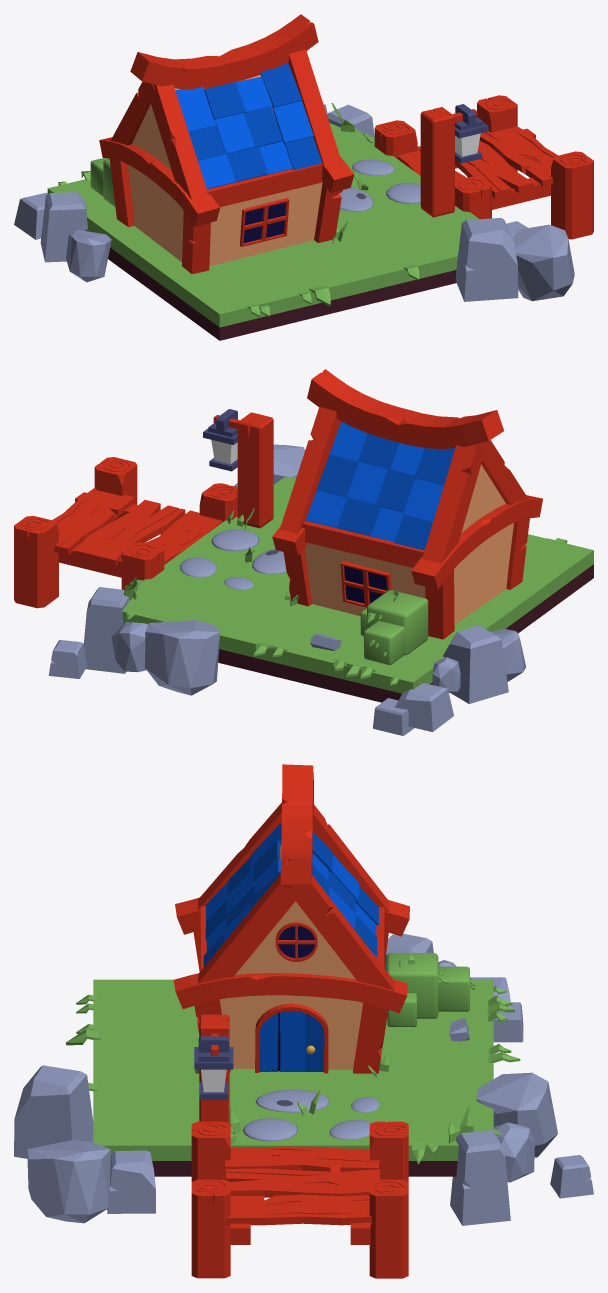
The model's file is hut.glb.
3 renders of one model, top to bottom at view 1: azimuth 30°, elevation 25°; view 2: azimuth 150°, elevation 25°; view 3: azimuth 270°, elevation 25°, orthographic. The views are drawn at different scales.
Parts seen in each view (by area): view 1: SUELO, PAREDES, Cubo.004, Cubo.103, Cubo.102, Cubo.046, Cubo.045, Cubo.007, Cubo.026, Cubo.056, Cubo.038, Cubo.008 (+33 smaller); view 2: SUELO, PAREDES, Cubo.004, Cubo.055, Cubo.046, Cubo, Cubo.006, Cubo.056, Cubo.041, Cubo.026, Cubo.005, Cubo.052 (+38 smaller); view 3: SUELO, PAREDES, Cubo.102, Cubo.103, Cubo.001, Cubo.052, puerta, Cubo.038, Cubo.045, Cubo, Cubo.055, Cubo.005 (+24 smaller).
Boxes of the visible parts, x1,y1,x2,y2 form: SUELO: (47, 123, 479, 340); PAREDES: (127, 75, 322, 266); Cubo.004: (130, 14, 318, 89); Cubo.103: (455, 217, 518, 301); Cubo.102: (512, 224, 574, 301); Cubo.046: (420, 107, 454, 217); Cubo.045: (551, 151, 593, 239); Cubo.007: (149, 84, 208, 199); Cubo.026: (99, 137, 220, 226); Cubo.056: (40, 192, 88, 262); Cubo.038: (479, 126, 557, 186); Cubo.008: (288, 49, 341, 165); SUELO: (122, 476, 593, 702); PAREDES: (304, 464, 513, 624); Cubo.004: (307, 369, 503, 449); Cubo.055: (145, 620, 220, 695); Cubo.046: (237, 412, 273, 528); Cubo: (14, 515, 58, 608); Cubo.006: (422, 441, 487, 563); Cubo.056: (443, 625, 508, 703); Cubo.041: (75, 500, 185, 566); Cubo.026: (411, 495, 542, 589); Cubo.005: (280, 407, 341, 533); Cubo.052: (83, 587, 129, 673); SUELO: (93, 979, 493, 1176); PAREDES: (220, 845, 363, 1069); Cubo.102: (27, 1140, 110, 1223); Cubo.103: (14, 1065, 93, 1158); Cubo.001: (173, 973, 407, 1013); Cubo.052: (450, 1130, 510, 1225); puerta: (255, 1003, 328, 1073); Cubo.038: (226, 1194, 371, 1225); Cubo.045: (191, 1179, 230, 1278); Cubo: (369, 1179, 408, 1278); Cubo.055: (476, 1072, 557, 1157); Cubo.005: (279, 875, 394, 990).
Size of what is drawn, in the model's own units: 5.29 by 2.64 by 4.83.
